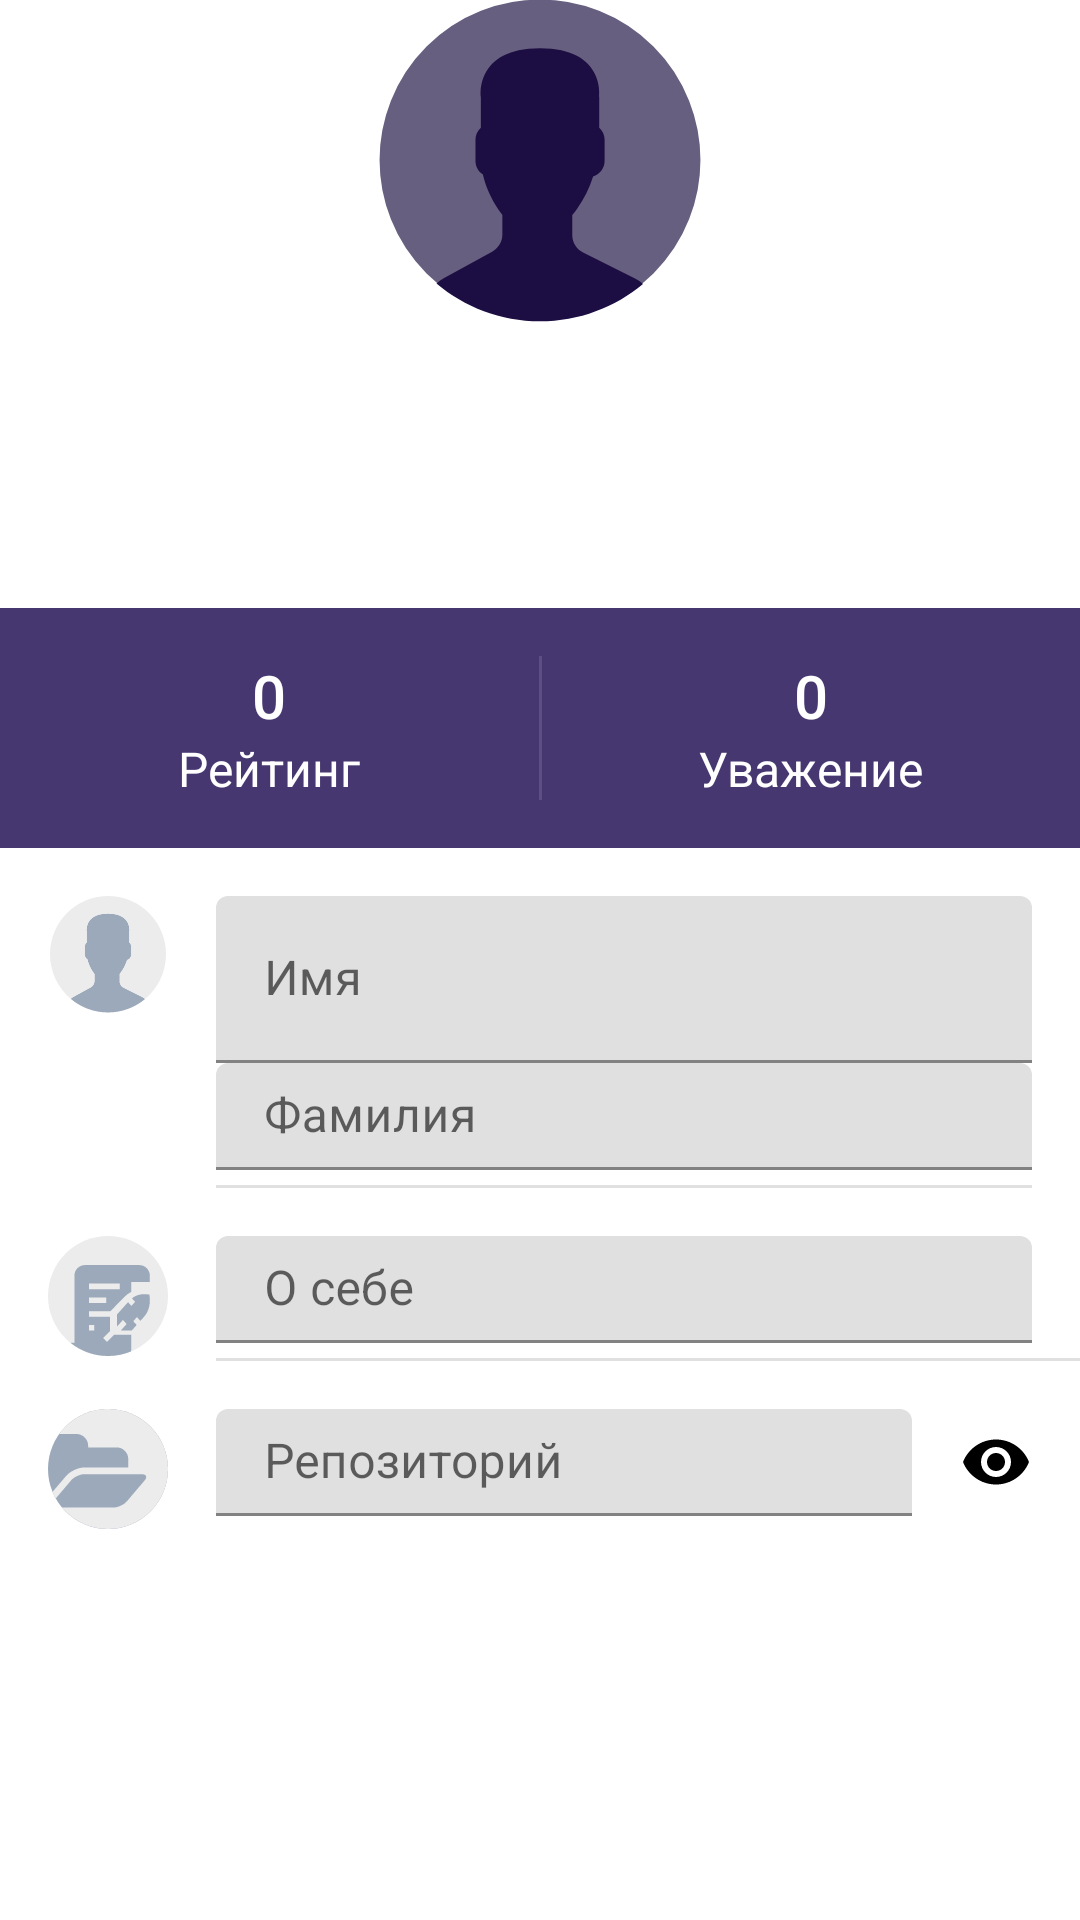

Screen size 1080 × 1920. Icon name, then its box in pixels as (left=x1, top=y1, right=x2, bottom=y2):
eye: (left=963, top=1439, right=1029, bottom=1485)
repo: (left=48, top=1409, right=168, bottom=1529)
